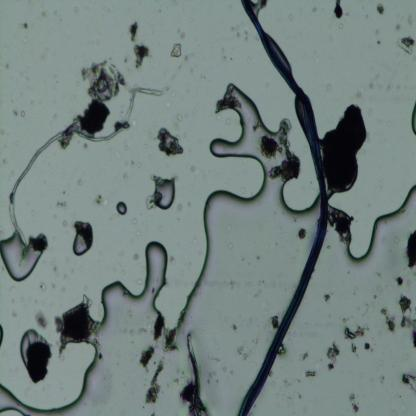Air bubble: (170, 83, 299, 329), (94, 239, 170, 358), (342, 177, 416, 268), (0, 351, 102, 414), (0, 231, 42, 282), (152, 174, 177, 211), (19, 327, 43, 364), (70, 234, 88, 255), (410, 100, 416, 136), (115, 202, 127, 215), (0, 324, 4, 347)
Background material: (326, 102, 368, 192), (80, 57, 126, 132), (56, 294, 96, 355), (128, 19, 150, 70), (26, 340, 51, 384), (270, 151, 300, 182), (157, 126, 185, 157), (144, 363, 164, 406), (330, 207, 353, 242), (214, 84, 242, 112), (74, 218, 95, 249), (259, 132, 284, 158), (379, 307, 398, 334), (398, 296, 412, 330), (277, 117, 292, 148), (404, 231, 416, 269), (163, 327, 180, 353), (395, 35, 416, 56), (205, 363, 220, 390), (345, 323, 366, 342), (45, 257, 62, 280), (29, 232, 48, 252), (326, 343, 339, 371), (180, 378, 194, 404), (401, 369, 416, 393), (152, 313, 163, 343), (146, 189, 162, 208), (332, 0, 346, 21), (141, 345, 154, 366), (228, 318, 243, 336), (169, 41, 183, 60), (373, 25, 384, 49), (218, 360, 234, 376), (349, 390, 360, 413), (35, 311, 49, 329), (48, 280, 62, 294), (238, 346, 250, 362), (375, 2, 387, 16), (298, 224, 308, 240), (270, 314, 280, 330), (54, 197, 67, 209), (188, 162, 200, 175), (74, 175, 85, 189), (11, 106, 25, 117), (411, 318, 416, 347), (354, 86, 362, 104), (406, 11, 414, 29), (252, 118, 262, 132), (394, 274, 403, 288), (337, 18, 347, 30), (300, 350, 310, 362), (366, 76, 376, 88), (278, 343, 288, 355), (176, 198, 184, 212), (322, 292, 332, 303), (363, 340, 372, 352), (305, 369, 317, 378), (18, 21, 30, 30), (95, 193, 104, 204), (222, 46, 228, 61), (39, 281, 46, 293), (132, 251, 140, 261)
Cellulose filter fibre: (8, 83, 164, 251)
Cotton: (238, 0, 330, 414), (184, 329, 203, 415)
